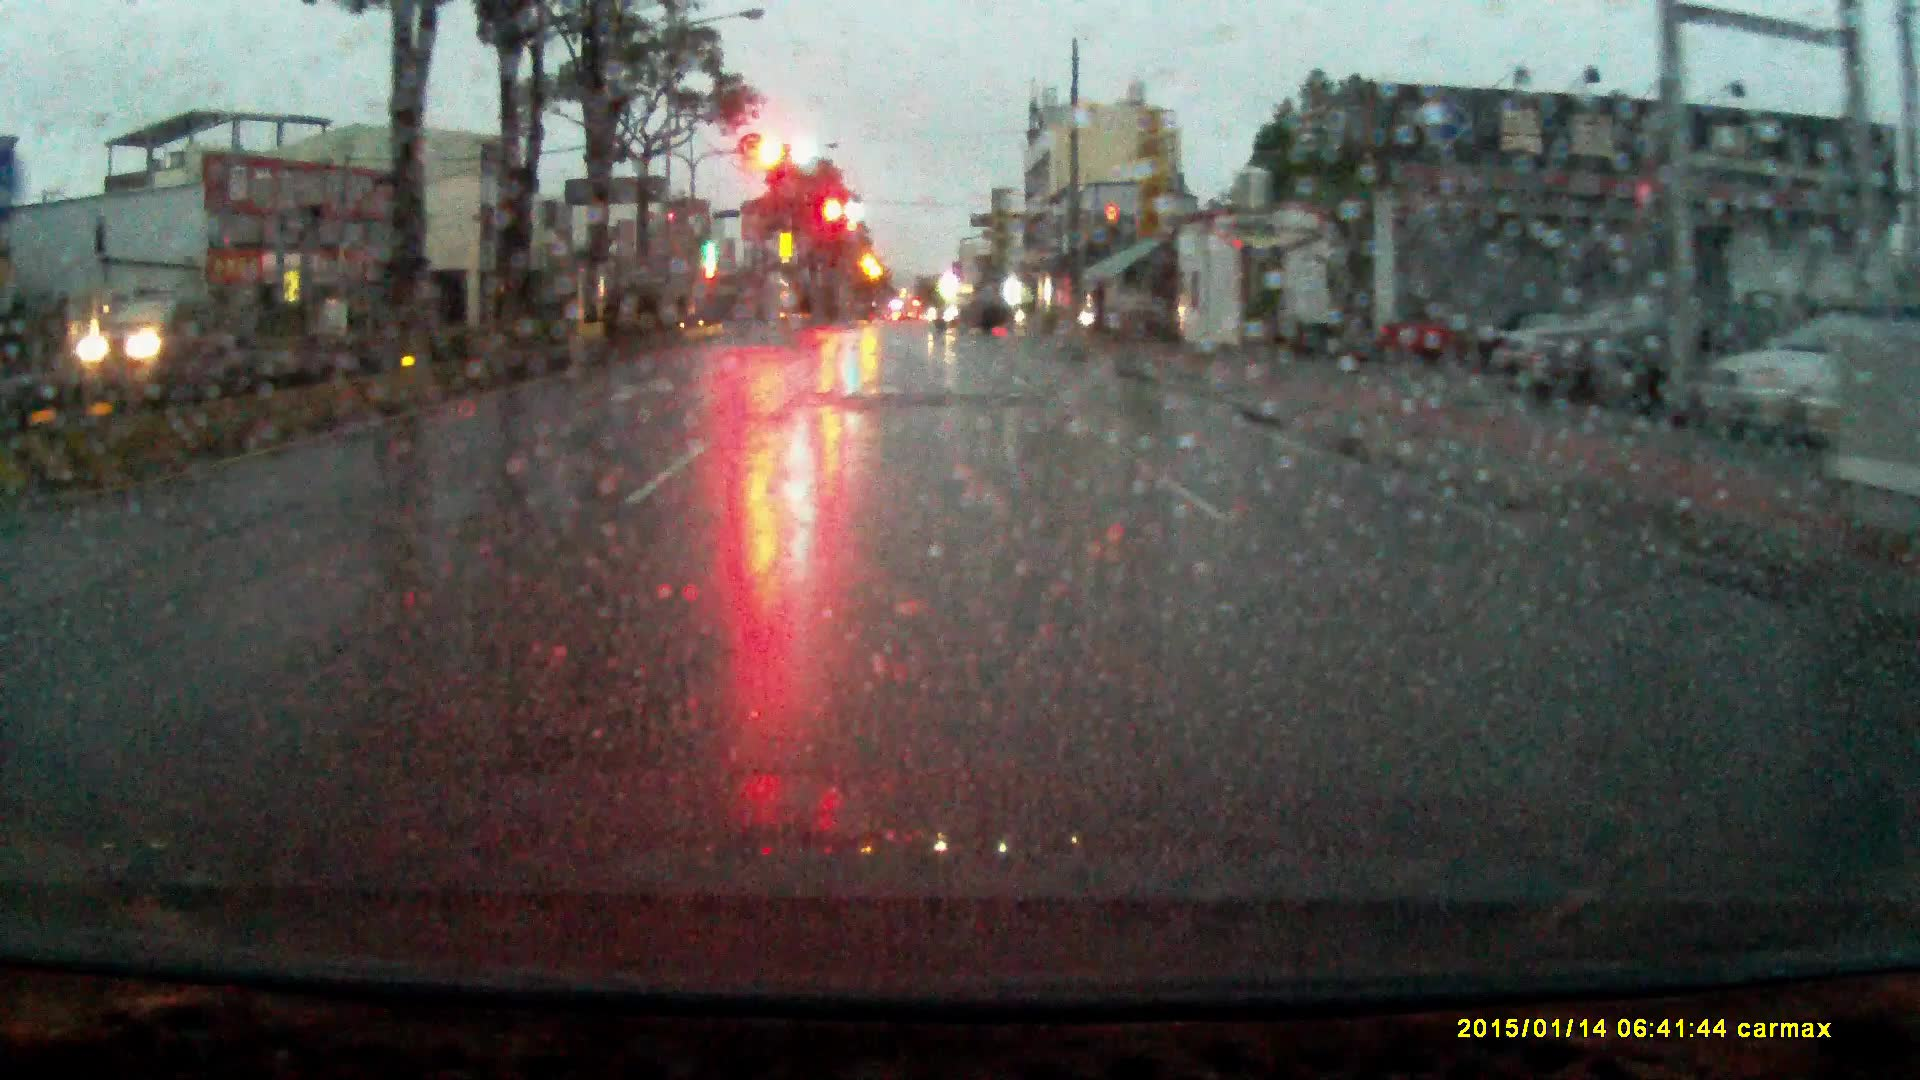vehicle: (1528, 287, 1801, 415), (1696, 314, 1920, 444), (1494, 291, 1698, 400), (76, 295, 214, 376), (928, 291, 1015, 340)
